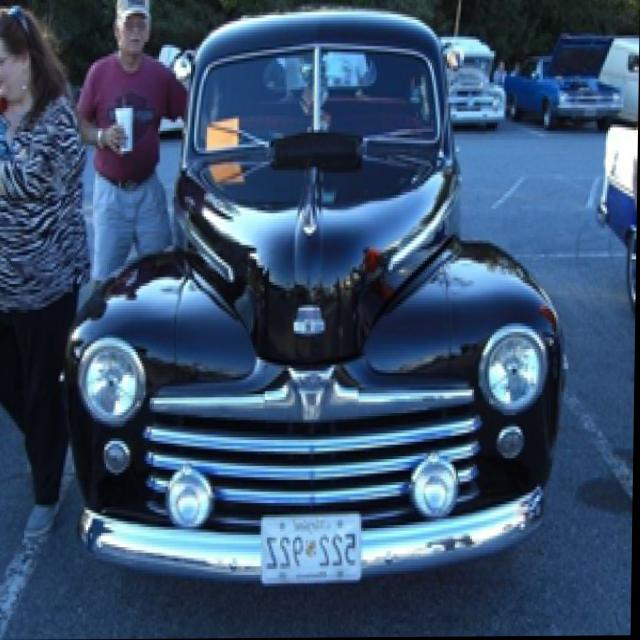licence: (266, 512, 367, 584)
